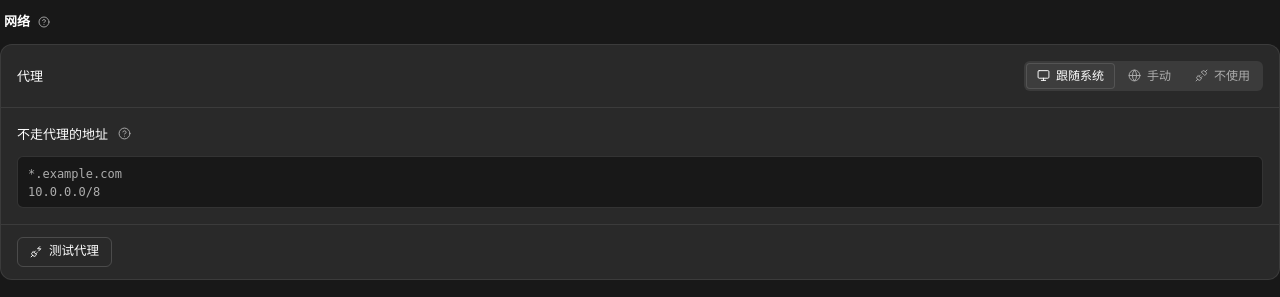
Test case: 网络 › 代理 › reports the proxy test result
Click the button "测试代理" at (64, 252), box x1=17 y1=236 x2=112 y2=266
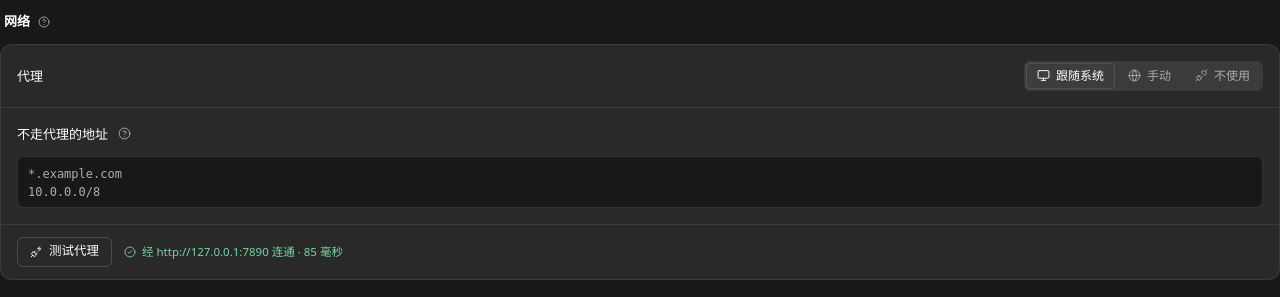
Check: the text "经 http://127.0.0.1:7890 连通 · 85 毫秒" is shown, box x1=142 y1=244 x2=343 y2=260
